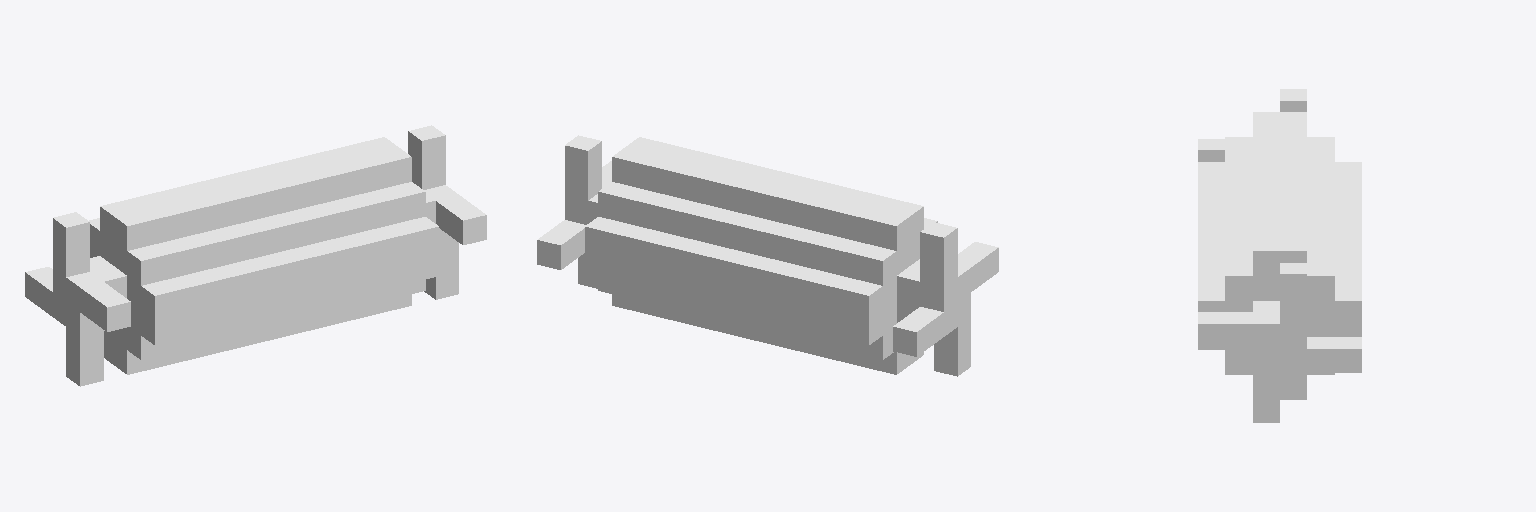
File: Ballista-1.obj
3 views of the same model, side by side, from view 1: azimuth 30°, elevation 25°; view 2: azimuth 150°, elevation 25°; view 3: azimuth 270°, elevation 25° (orthographic).
Visible parts, largest first — view 1: object 1; view 2: object 1; view 3: object 1.
Boxes of the visible parts, x1=… form: object 1: x1=25, y1=125, x2=486, y2=386; object 1: x1=537, y1=135, x2=998, y2=376; object 1: x1=1198, y1=89, x2=1361, y2=422.
Bounding box in the file's own units: 1.6 × 0.6 × 0.6.